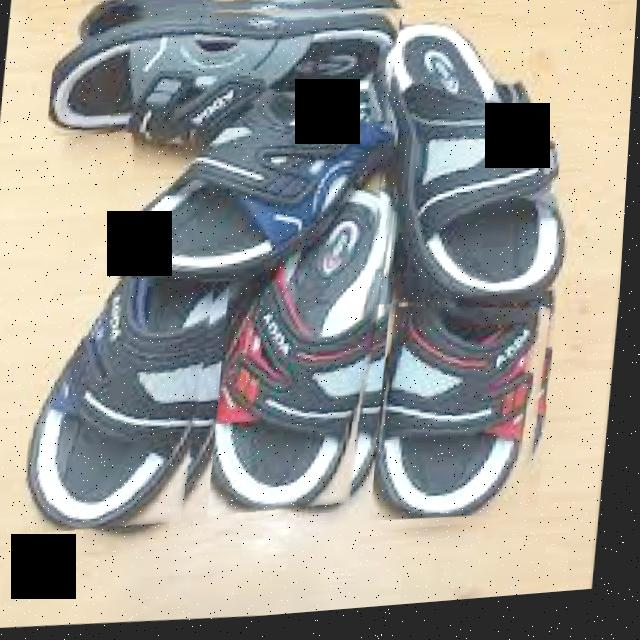shoe: (2, 0, 588, 578), (351, 2, 609, 321), (118, 55, 398, 290), (213, 184, 401, 527), (26, 264, 221, 542), (47, 0, 403, 149), (376, 302, 555, 533)
